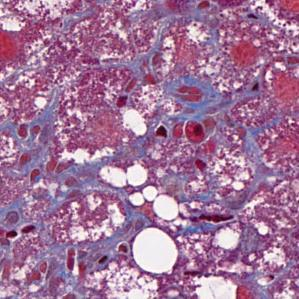steatosis: (133, 226, 181, 277)
